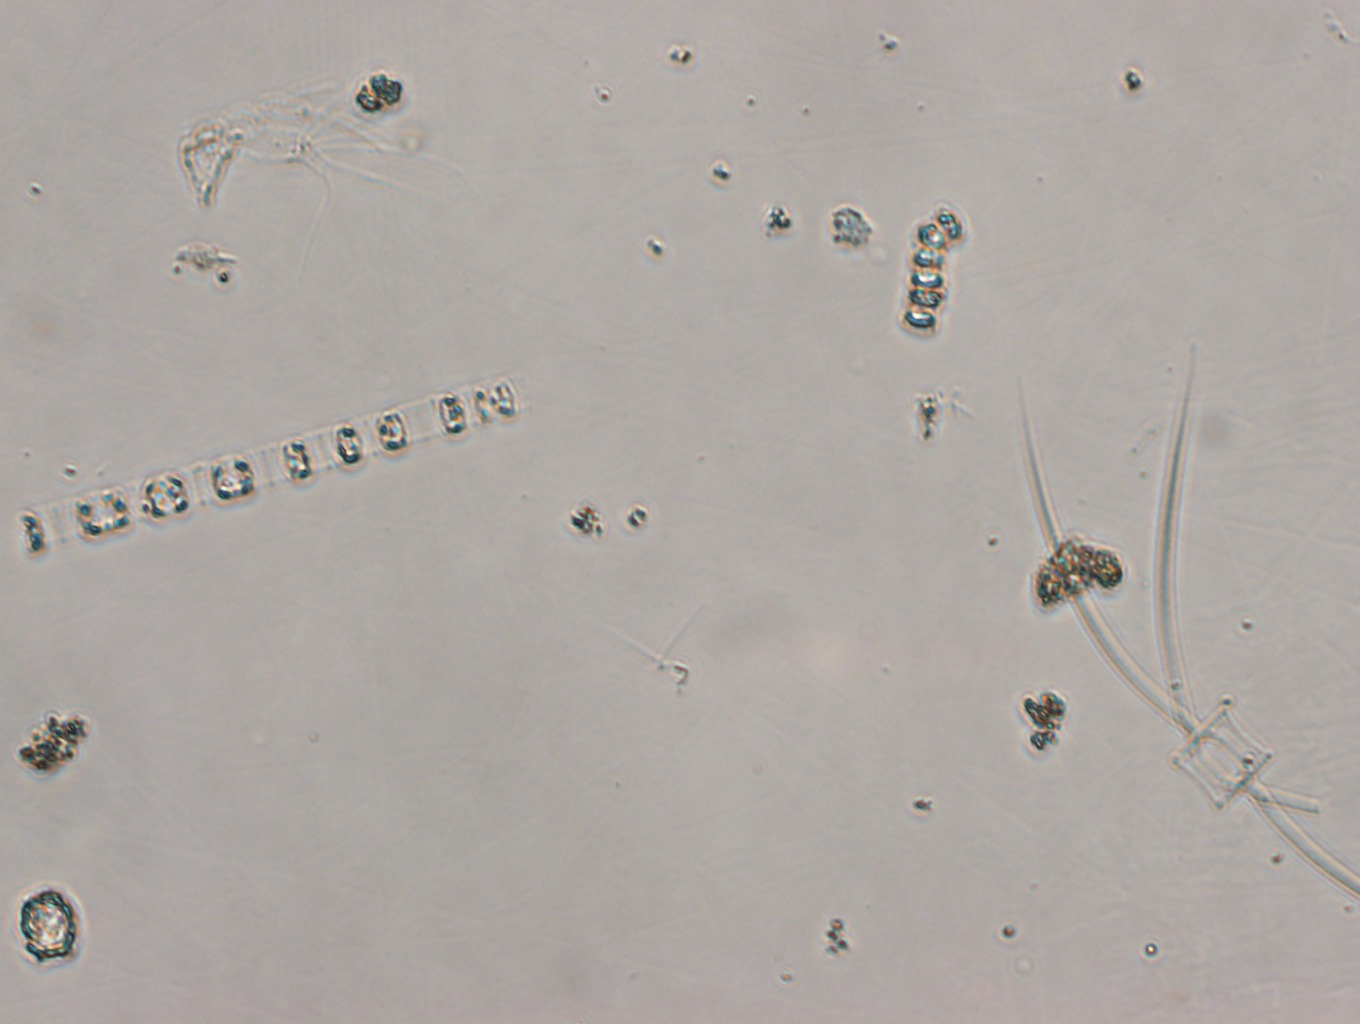chaetoceros: (1010, 335, 1360, 898)
skeletonema: (13, 369, 533, 564), (897, 203, 967, 341)
